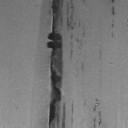slag inclusion: (45, 0, 86, 128), (93, 98, 102, 128), (110, 0, 116, 16), (110, 32, 114, 39), (82, 0, 87, 4), (82, 62, 84, 71), (112, 23, 115, 28)
